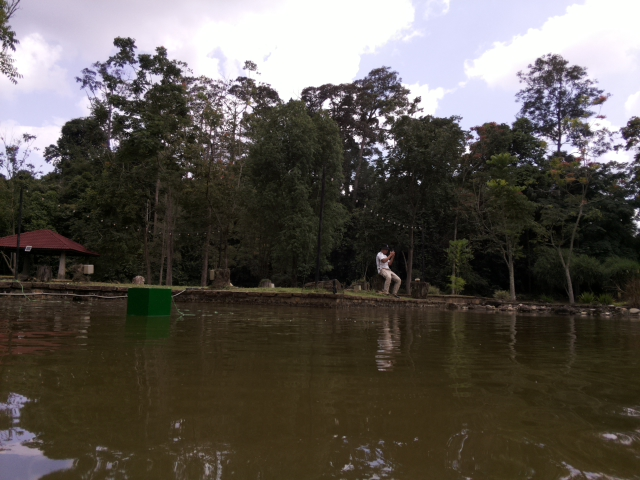obstacle: (125, 286, 174, 318)
